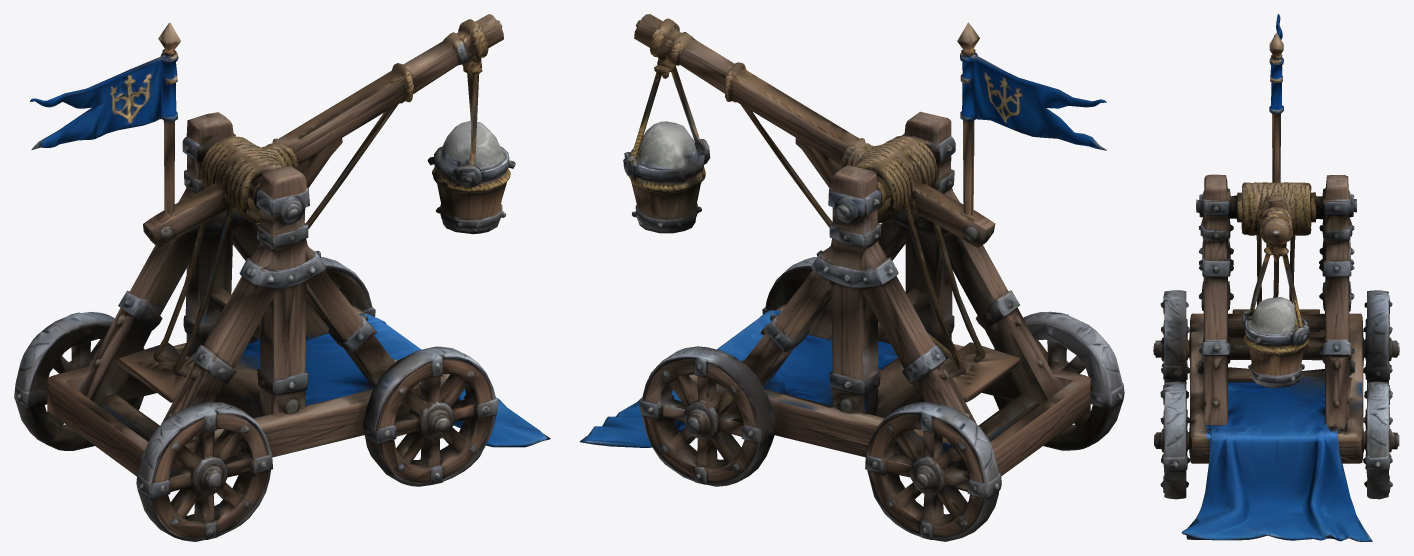
Rendered from hum_siege.glb.
The picture shows the model from 3 angles, left to right: view 1: azimuth 30°, elevation 25°; view 2: azimuth 150°, elevation 25°; view 3: azimuth 270°, elevation 25°; orthographic projection. The views are drawn at different scales.
Visible parts, largest first — view 1: node_0; view 2: node_0; view 3: node_0.
Boxes of the visible parts, x1,y1,x2,y2 form: node_0: [14, 14, 550, 541]; node_0: [579, 14, 1124, 541]; node_0: [1153, 14, 1399, 541].
Size of the model in its own units: 0.852 by 0.792 by 0.4653.
1 material, 1 textured.
